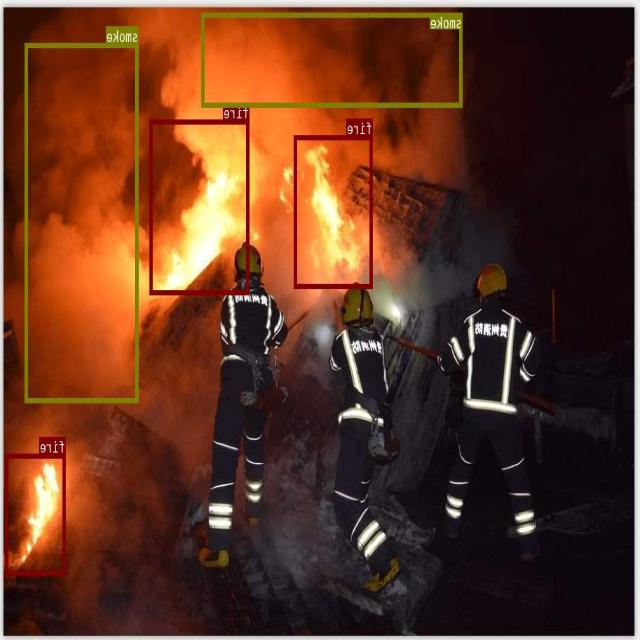fire: (150, 119, 250, 294), (294, 134, 374, 288), (6, 453, 66, 574)
smoke: (26, 42, 139, 402), (202, 12, 463, 106)
